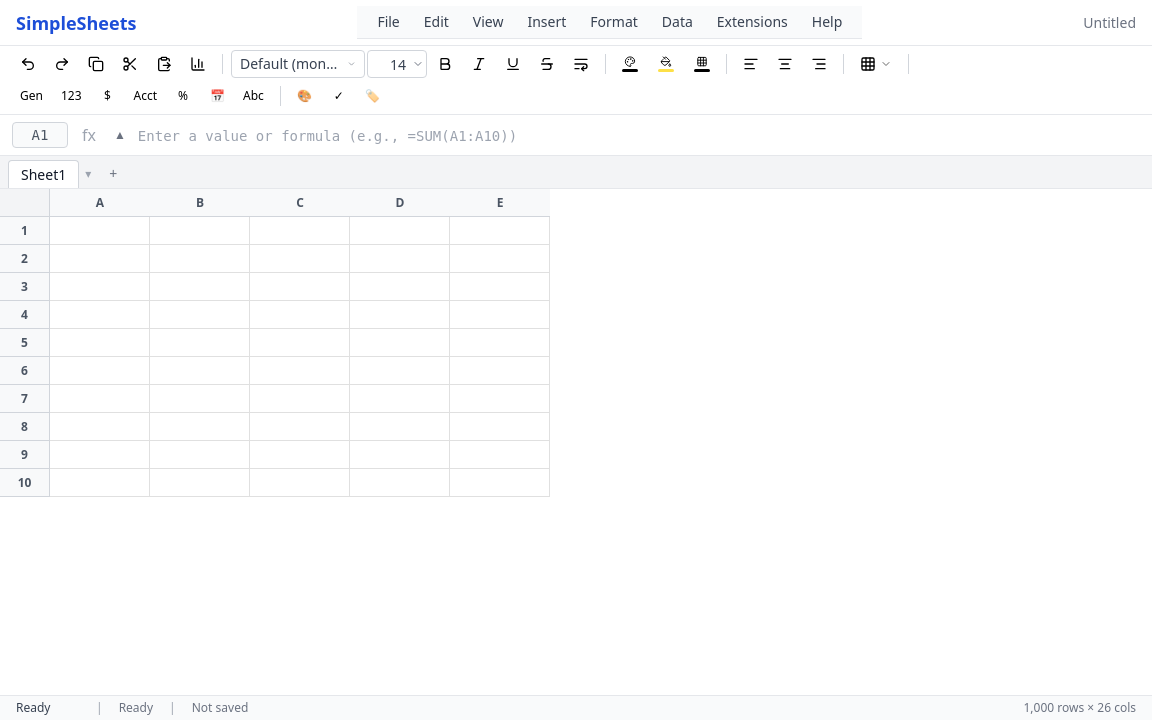
it: Grid type then FormulaBar type then Enter › type in grid, click FormulaBar, type more, Enter → preserves value
Later steps or results of the test are not shown.
// Navigate to C2
Press ArrowRight in the element showing "A B C D E 1 2 3 4 5 6 7 8 9 10", box [0,189,550,497]
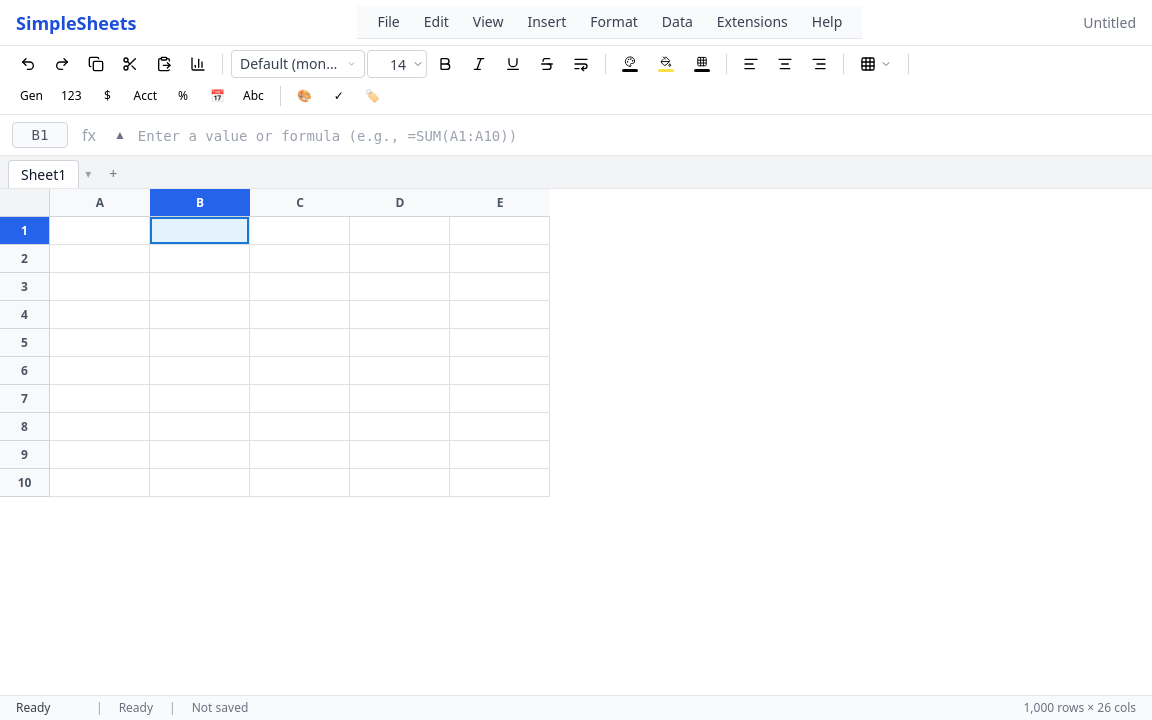
Press ArrowRight in the element showing "A B C D E 1 2 3 4 5 6 7 8 9 10", box [0,189,550,497]
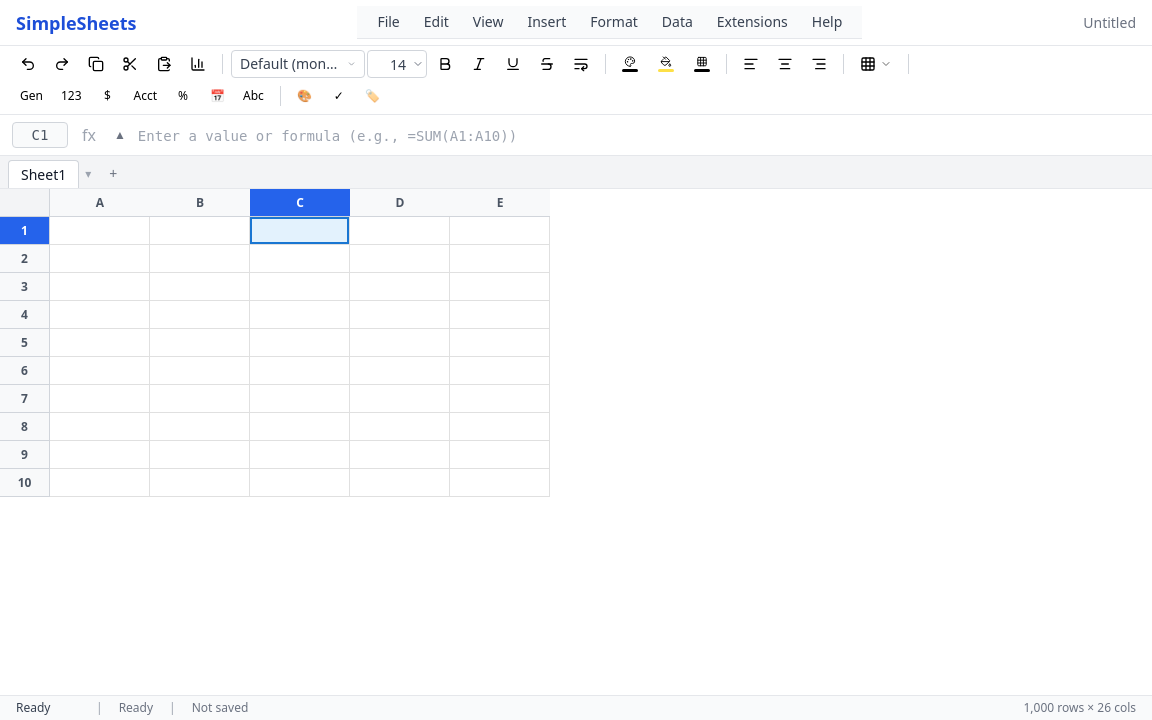
Press ArrowDown in the element showing "A B C D E 1 2 3 4 5 6 7 8 9 10", box [0,189,550,497]
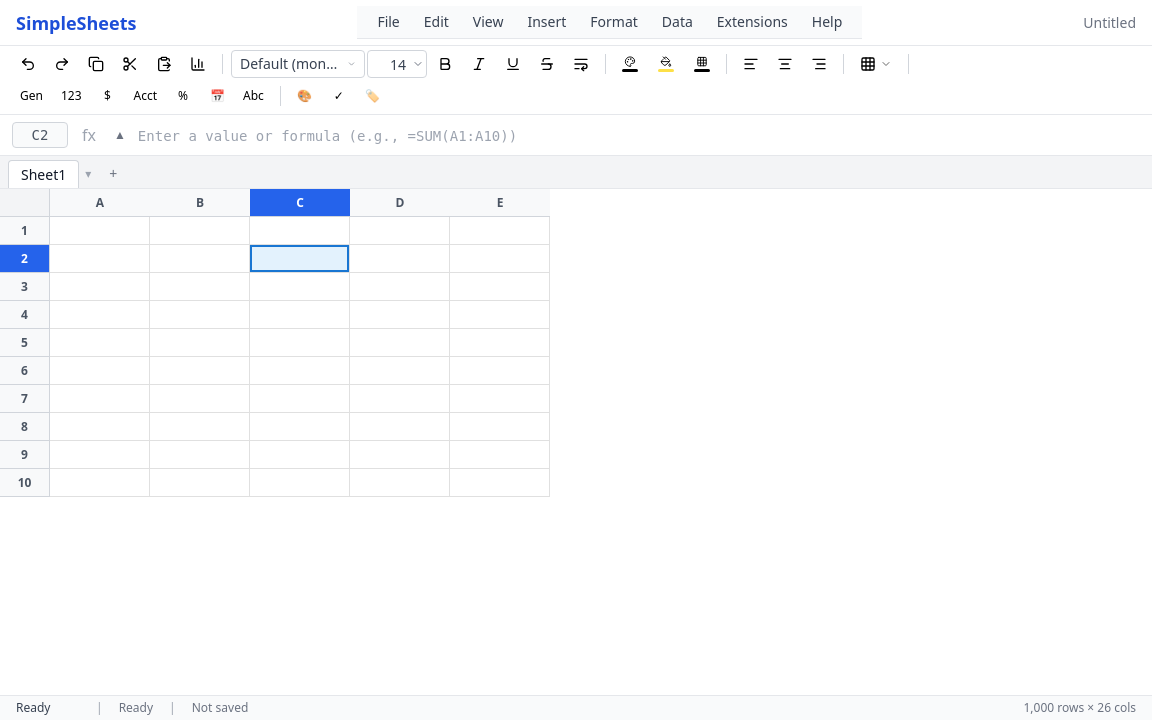
// Type '1' in grid to start editing
Press 1 in the element showing "A B C D E 1 2 3 4 5 6 7 8 9 10", box [0,189,550,497]
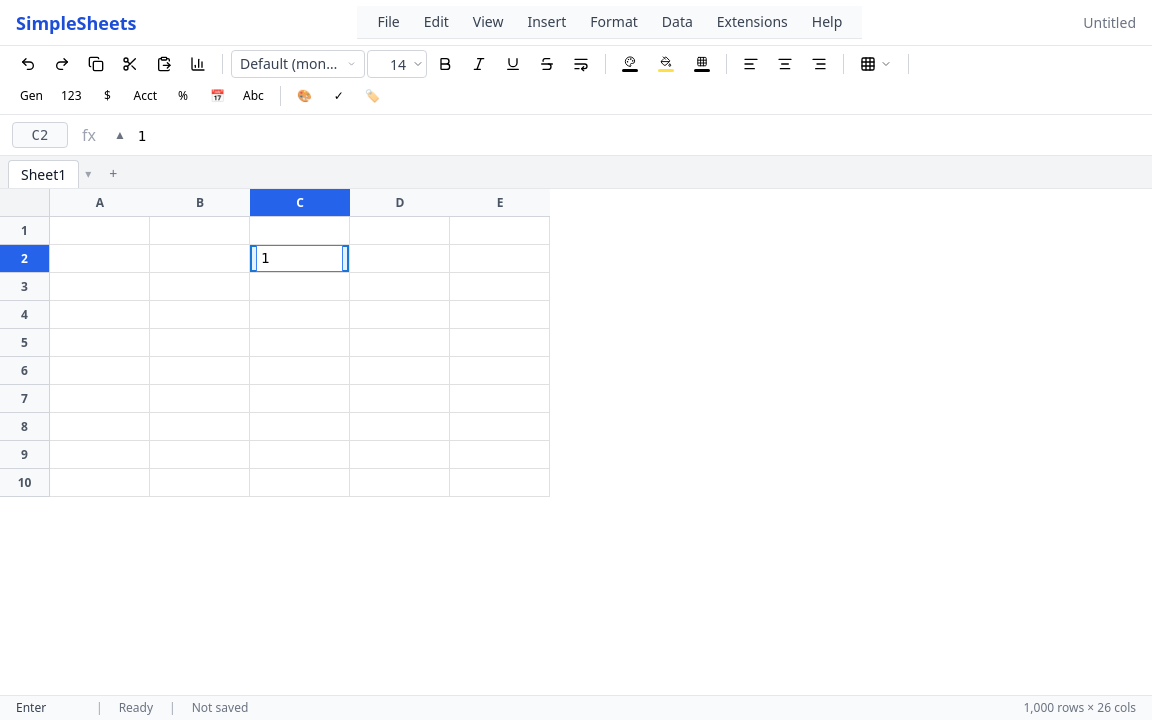
Check: the text with test id "cell-mode" reads "Enter", box [16,699,46,716]
Check: the 3rd field is shown
Replace the text in the 3rd field with "12" at (300, 258), box [256,244,343,272]
// Click in the formula bar (switches editor, should preserve buffer '12')
Focus the 1st field with placeholder "Enter a value or formula (e.g., =SUM(A1:A10))" at (639, 136), box [138,126,1140,146]
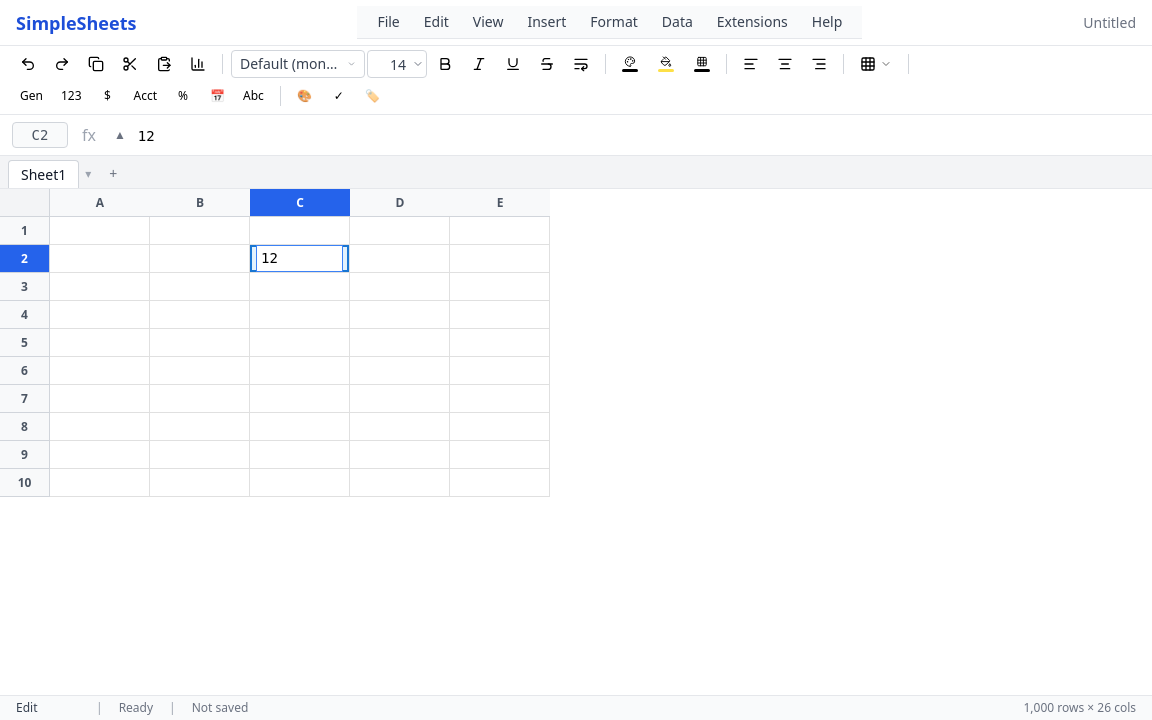
Check: the 1st field with placeholder "Enter a value or formula (e.g., =SUM(A1:A10))" holds "12"
// Type '3' in the formula bar (buffer should become '123')
Replace the text in the 1st field with placeholder "Enter a value or formula (e.g., =SUM(A1:A10))" with "123" at (639, 136), box [138,126,1140,146]
// Press Enter to commit
Press Enter in the 1st field with placeholder "Enter a value or formula (e.g., =SUM(A1:A10))", box [138,126,1140,146]
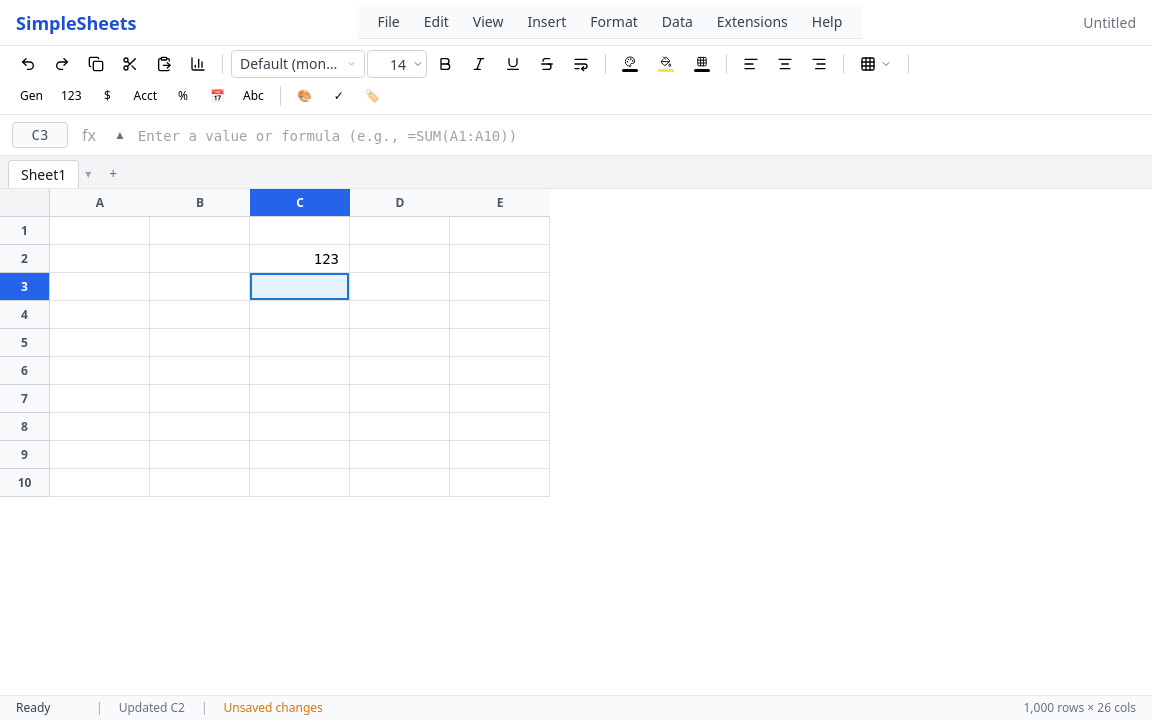
Check: the text with test id "cell-mode" reads "Ready", box [16,699,50,716]
